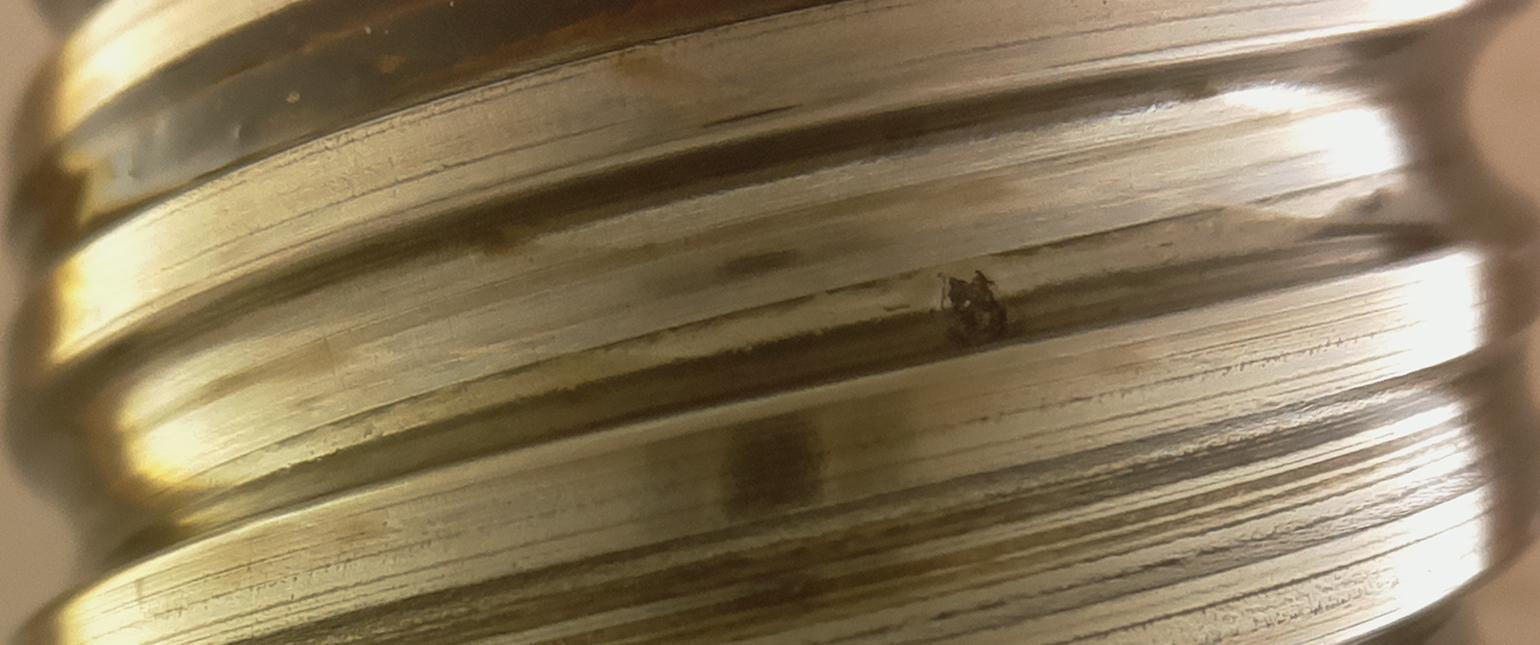pitting: (944, 269, 1008, 349)
